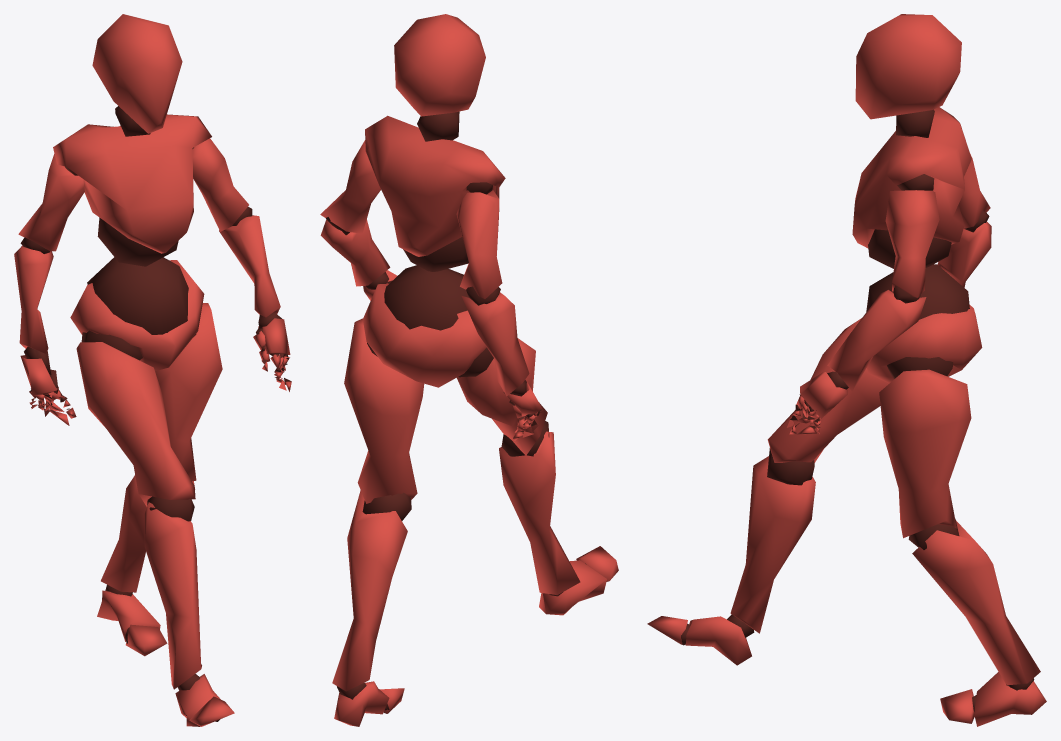
The picture shows the model from 3 angles, left to right: view 1: azimuth 30°, elevation 25°; view 2: azimuth 150°, elevation 25°; view 3: azimuth 270°, elevation 25°; orthographic projection. The views are drawn at different scales.
Parts seen in each view (by area): view 1: Beta_Surface; view 2: Beta_Surface; view 3: Beta_Surface.
Boxes of the visible parts, x1=… form: Beta_Surface: x1=14, y1=14, x2=291, y2=726; Beta_Surface: x1=320, y1=14, x2=618, y2=726; Beta_Surface: x1=647, y1=14, x2=1046, y2=726.
Size of the model in its own units: 5.04 by 14.31 by 7.55.
